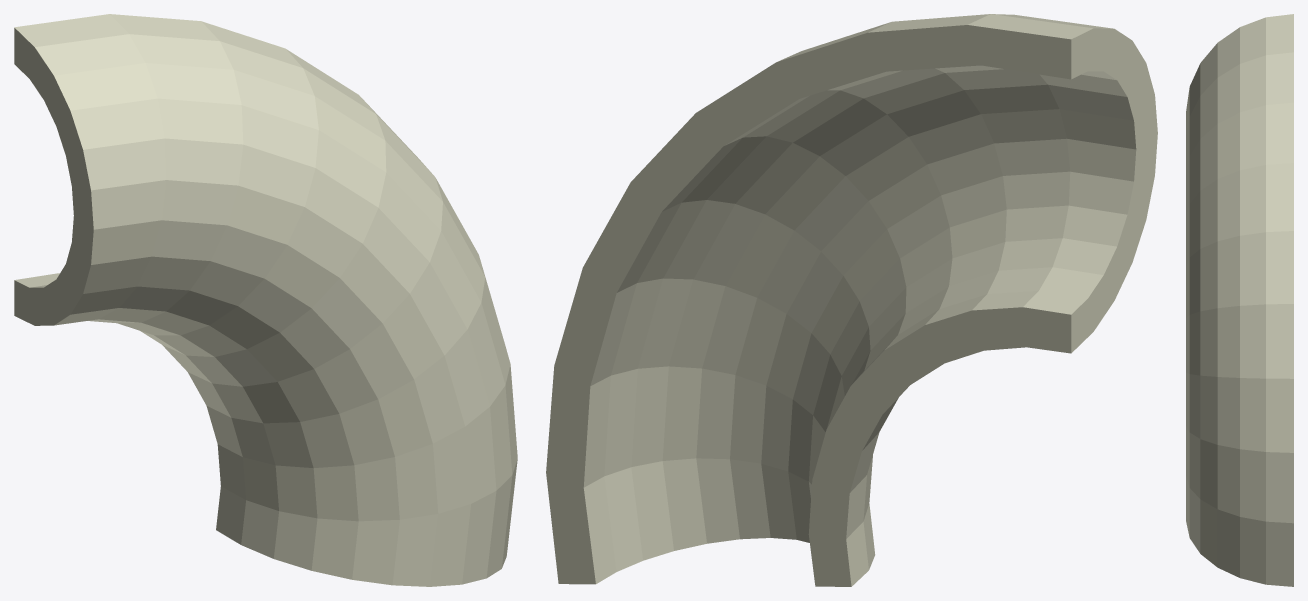
The model's file is section_319.obj.
3 renders of one model, left to right at view 1: azimuth 30°, elevation 25°; view 2: azimuth 150°, elevation 25°; view 3: azimuth 270°, elevation 25°, orthographic. The views are drawn at different scales.
Size of the model in its own units: 14 by 17.05 by 4.
